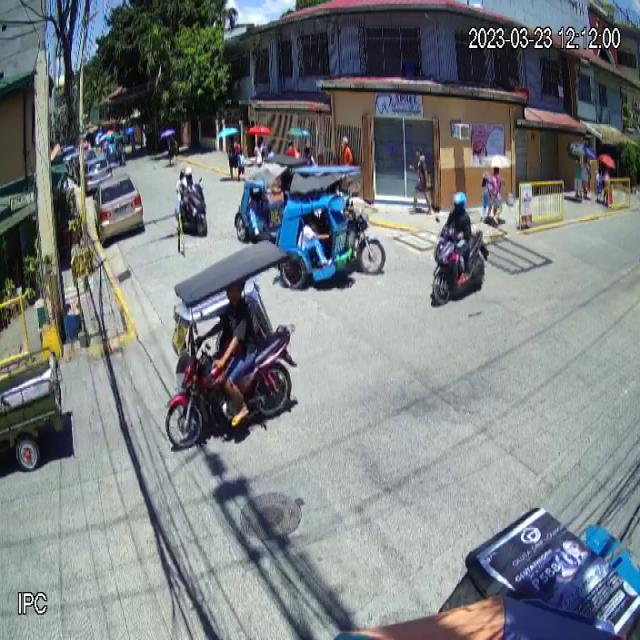Motorcycle: (430, 215, 490, 307), (176, 177, 208, 238)
Tricycle: (165, 239, 297, 450), (277, 164, 387, 291)
